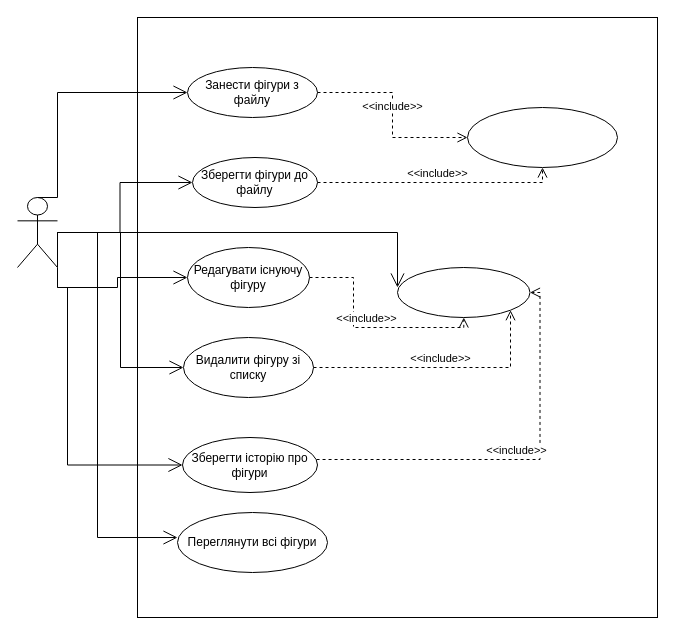
Some shapes in this 675 by 635 pixel diagram are drawn without their labels. Here are the shapes that lost their labels. From the top down, the centre of each, then its label:
At pixel 542 137: "Вибрати файл в провіднику".
At pixel 37 232: "Actor".
At pixel 463 292: "Додати фігури до списку".
